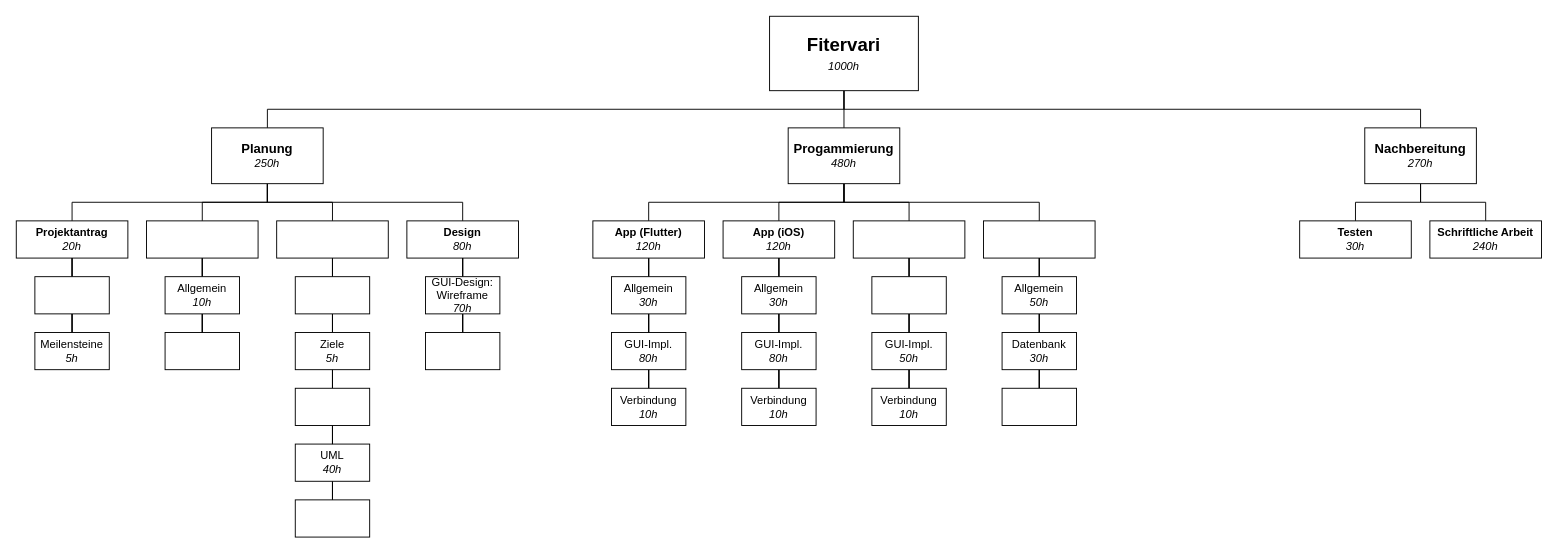
This 1558x553 diagram has some shape labels left out. The centre of each missing label's shape, as x and y in pixels:
Allgemein 15h: (71,295)
Allgemein 60h: (908,295)
Backend 120h: (1039,239)
Beschreibung 5h: (332,295)
Logo 10h: (462,351)
Pflichtenheft 125h: (332,239)
Projektstrukturplan 25h: (202,239)
REST API 40h: (1038,406)
Systemaufbau 50h: (332,406)
Taskliste 15h: (201,351)
Use-Cases 25h: (332,518)
Web-App 120h: (908,239)
